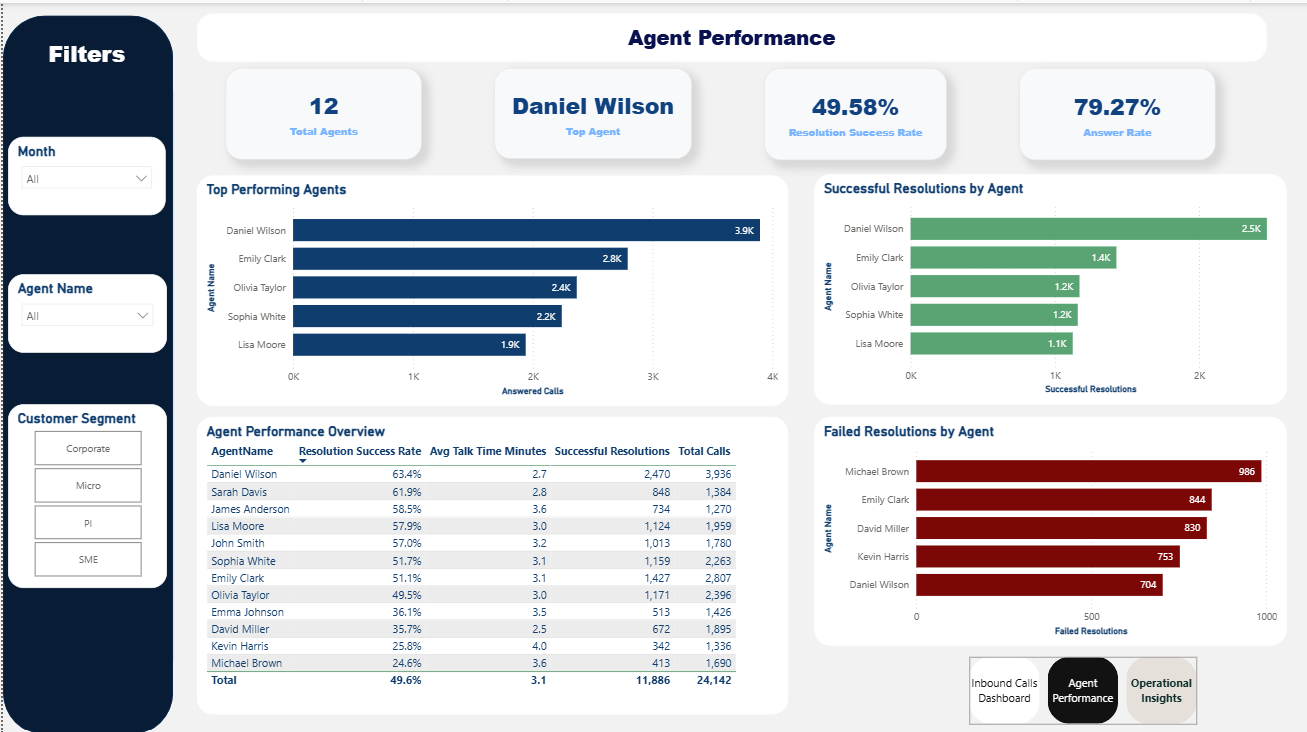

Layout of this report page (visuals, bound fields, positions):
{"tool":"powerbi","page":{"name":"Agent Performance","canvas":[1600,900],"ordinal":1},"visuals":[{"type":"card","fields":{"Values":["Sheet1.Total Agents"]},"box":[272,79.5,240,112],"z":0},{"type":"textbox","box":[236.9,12.2,1308.4,59.6],"z":1000},{"type":"shape","box":[0,16,208,880],"z":2000},{"type":"textbox","box":[608,96,80,96],"z":3000},{"type":"textbox","box":[288,96,64,80],"z":4000},{"type":"slicer","title":"Month","fields":{"Values":["Sheet1.MonthYear"]},"box":[6.1,163.6,192.6,96.3],"z":5000},{"type":"slicer","title":"Agent Name","fields":{"Values":["Sheet1.AgentName"]},"box":[6.1,331.7,194.1,96.3],"z":6000},{"type":"slicer","title":"Customer Segment","fields":{"Values":["Sheet1.CustomerSegment"]},"box":[6.1,490.7,194.1,224.7],"z":7000},{"type":"textbox","box":[39.7,38.2,125.3,65.7],"z":9000},{"type":"card","fields":{"Values":["Sheet1.Top Agent"]},"box":[600.7,79.5,241.5,111.6],"z":10000},{"type":"card","fields":{"Values":["Sheet1.Resolution Success Rate"]},"box":[930.9,79.5,223.2,113.1],"z":11000},{"type":"card","fields":{"Values":["Sheet1.Answer Rate"]},"box":[1242.7,79.5,240,113.1],"z":12000},{"type":"clusteredBarChart","title":"Top Performing Agents","fields":{"Category":["Sheet1.AgentName"],"Y":["Sheet1.Answered Calls"]},"box":[236.9,210.9,723,281.3],"z":13000},{"type":"clusteredBarChart","title":"Successful Resolutions by Agent","fields":{"Category":["Sheet1.AgentName"],"Y":["Sheet1.Successful Resolutions"]},"box":[992,209.4,577.8,281.3],"z":14000},{"type":"clusteredBarChart","title":"Failed Resolutions by Agent","fields":{"Category":["Sheet1.AgentName"],"Y":["Sheet1.Failed Resolutions"]},"box":[992,505.9,577.8,279.7],"z":15000},{"type":"tableEx","title":"Agent Performance Overview","fields":{"Values":["Sheet1.AgentName","Sheet1.Resolution Success Rate","Sheet1.Avg Talk Time Minutes","Sheet1.Successful Resolutions","Sheet1.Total Calls"]},"box":[236.9,505.9,723,363.8],"z":16000},{"type":"pageNavigator","box":[1181.6,799.4,278.2,82.5],"z":16001}]}

Visuals, with their boxes in screenshot pixels (x1, y1, x2, y2), scaled from the page's 1600x900 canvas onto the 1307x732 screenshot:
card - Sheet1.Total Agents: pyautogui.locateOnScreen(222, 65, 418, 156)
textbox: pyautogui.locateOnScreen(194, 10, 1262, 58)
shape: pyautogui.locateOnScreen(0, 13, 170, 729)
textbox: pyautogui.locateOnScreen(497, 78, 562, 156)
textbox: pyautogui.locateOnScreen(235, 78, 288, 143)
"Month" slicer: pyautogui.locateOnScreen(5, 133, 162, 211)
"Agent Name" slicer: pyautogui.locateOnScreen(5, 270, 164, 348)
"Customer Segment" slicer: pyautogui.locateOnScreen(5, 399, 164, 582)
textbox: pyautogui.locateOnScreen(32, 31, 135, 85)
card - Sheet1.Top Agent: pyautogui.locateOnScreen(491, 65, 688, 155)
card - Sheet1.Resolution Success Rate: pyautogui.locateOnScreen(760, 65, 943, 157)
card - Sheet1.Answer Rate: pyautogui.locateOnScreen(1015, 65, 1211, 157)
"Top Performing Agents" clusteredBarChart: pyautogui.locateOnScreen(194, 172, 784, 400)
"Successful Resolutions by Agent" clusteredBarChart: pyautogui.locateOnScreen(810, 170, 1282, 399)
"Failed Resolutions by Agent" clusteredBarChart: pyautogui.locateOnScreen(810, 411, 1282, 639)
"Agent Performance Overview" tableEx: pyautogui.locateOnScreen(194, 411, 784, 707)
pageNavigator: pyautogui.locateOnScreen(965, 650, 1192, 717)
